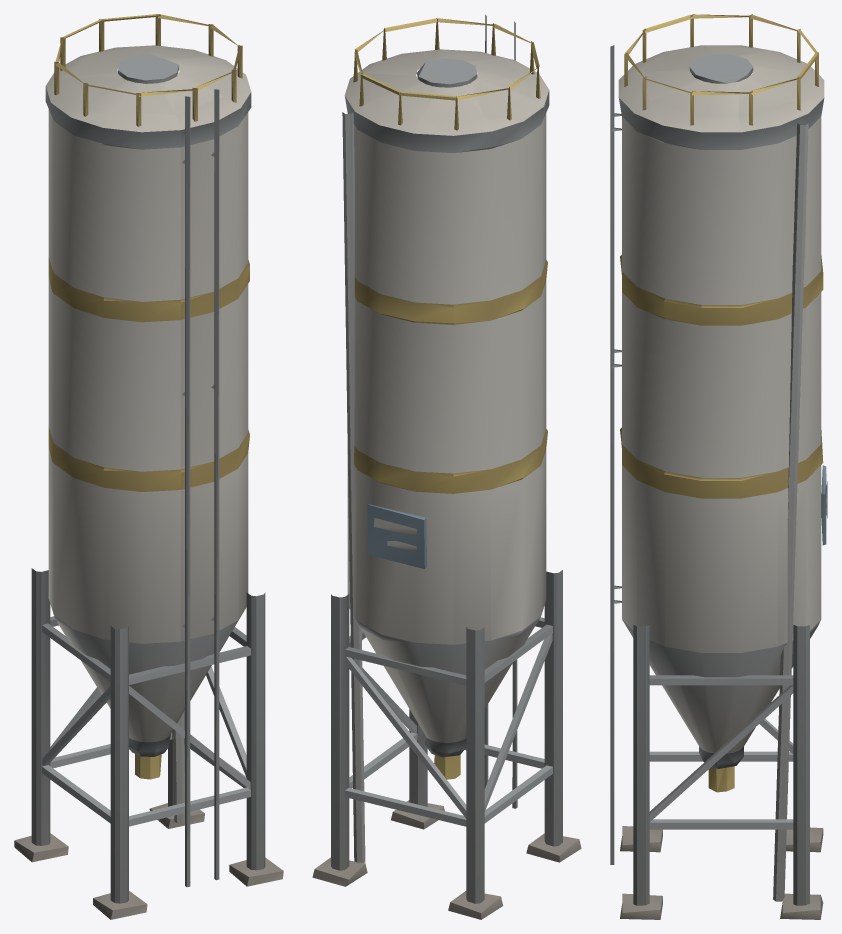
The model's file is silo.lod1.glb.
The picture shows the model from 3 angles, left to right: view 1: azimuth 30°, elevation 25°; view 2: azimuth 150°, elevation 25°; view 3: azimuth 270°, elevation 25°; orthographic projection. The views are drawn at different scales.
Size of the model in its own units: 3.24 by 14.3 by 3.42.
